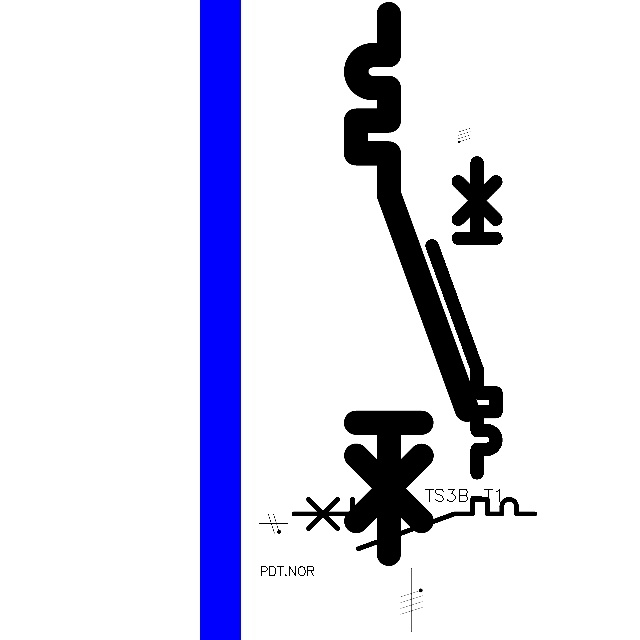interruptor_termomagnetico: (342, 0, 481, 568), (424, 154, 504, 480), (287, 493, 540, 555)
